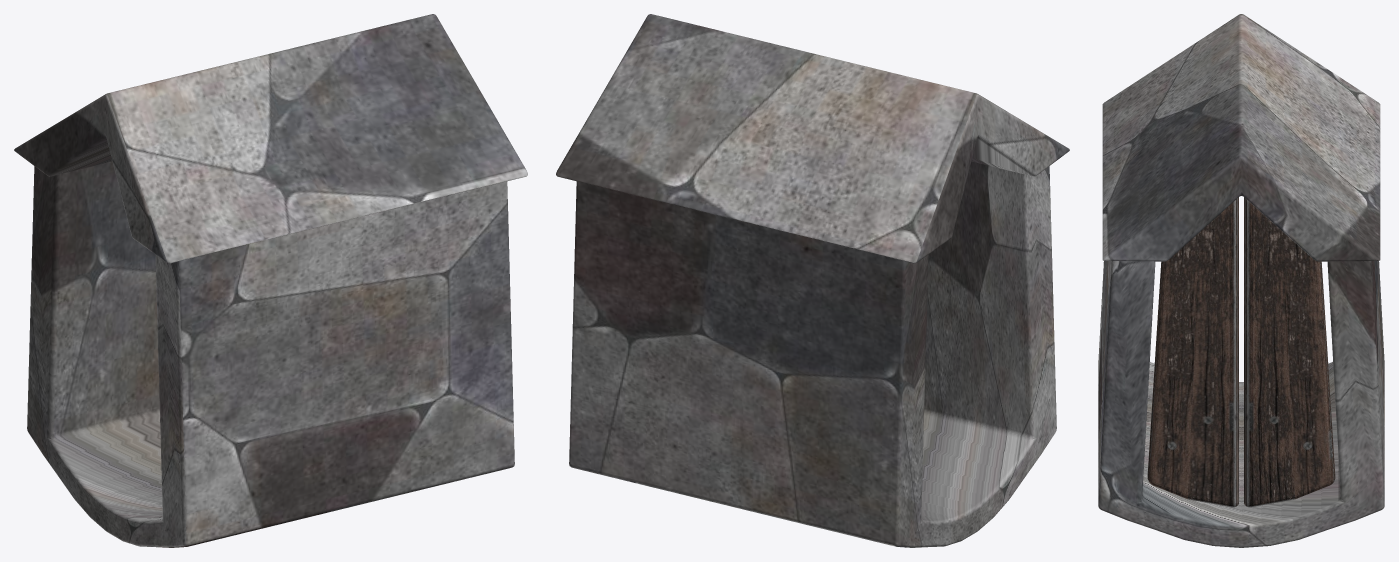
File: window frame.fbx
The picture shows the model from 3 angles, left to right: view 1: azimuth 30°, elevation 25°; view 2: azimuth 150°, elevation 25°; view 3: azimuth 270°, elevation 25°; orthographic projection. The views are drawn at different scales.
Visible parts, largest first — view 1: Window; view 2: Window; view 3: Window, door left, door left.001.
Part boxes in pixels (bbox=[...]): Window: bbox=[14, 14, 527, 547]; Window: bbox=[556, 14, 1069, 547]; Window: bbox=[1098, 14, 1384, 547]; door left: bbox=[1147, 197, 1238, 507]; door left.001: bbox=[1244, 197, 1335, 507].
Bounding box in the file's own units: 219 × 253 × 168.
